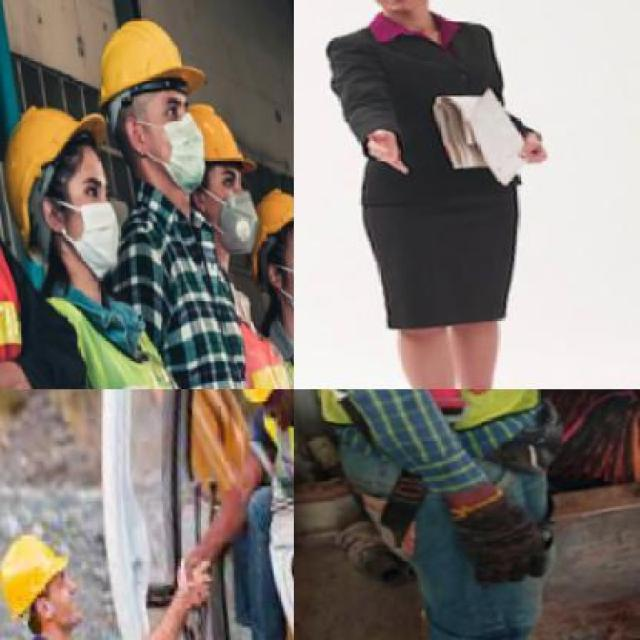Vest: (35, 260, 220, 388), (212, 292, 292, 388), (242, 390, 292, 536)
